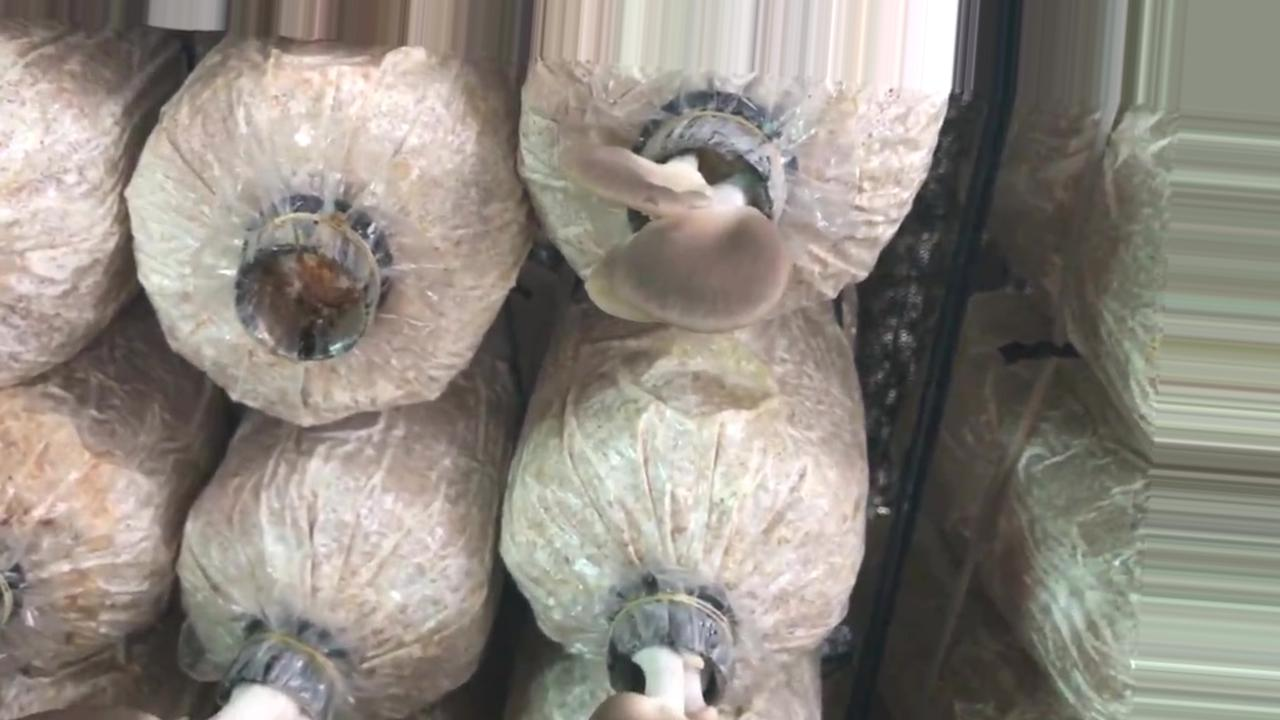nam: (557, 99, 796, 335), (597, 585, 739, 720)
